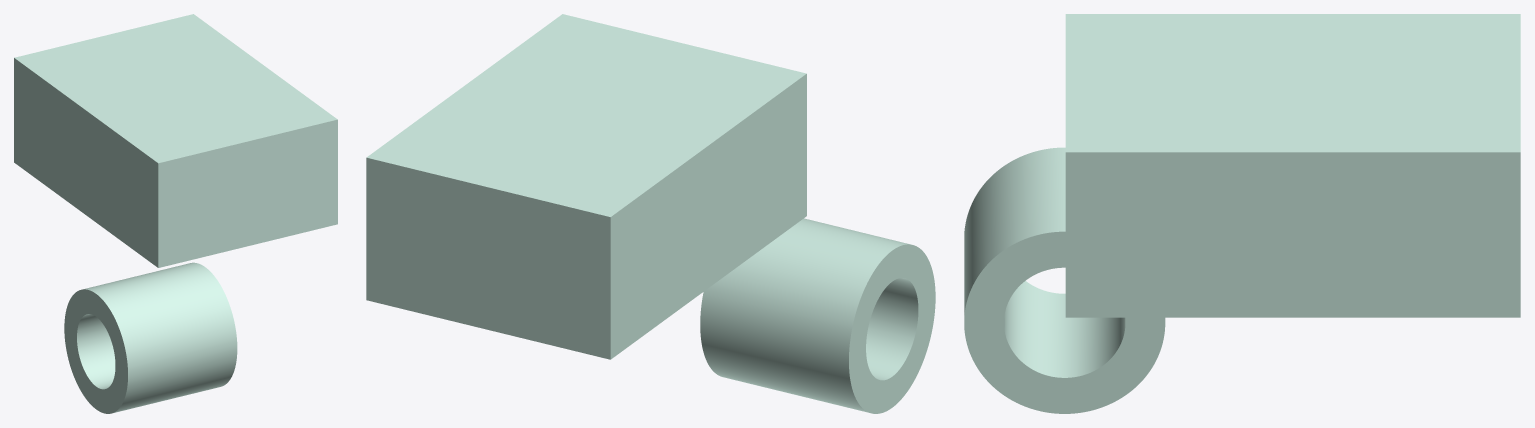
3 renders of one model, left to right at view 1: azimuth 30°, elevation 25°; view 2: azimuth 150°, elevation 25°; view 3: azimuth 270°, elevation 25°, orthographic. The views are drawn at different scales.
Parts seen in each view (by area): view 1: Renderer Node; view 2: Renderer Node; view 3: Renderer Node.
Boxes of the visible parts, x1,y1,x2,y2 form: Renderer Node: [14, 14, 337, 413]; Renderer Node: [366, 14, 935, 413]; Renderer Node: [964, 14, 1520, 413].
Size of the model in its own units: 0.7266 by 0.6618 by 0.9175.
